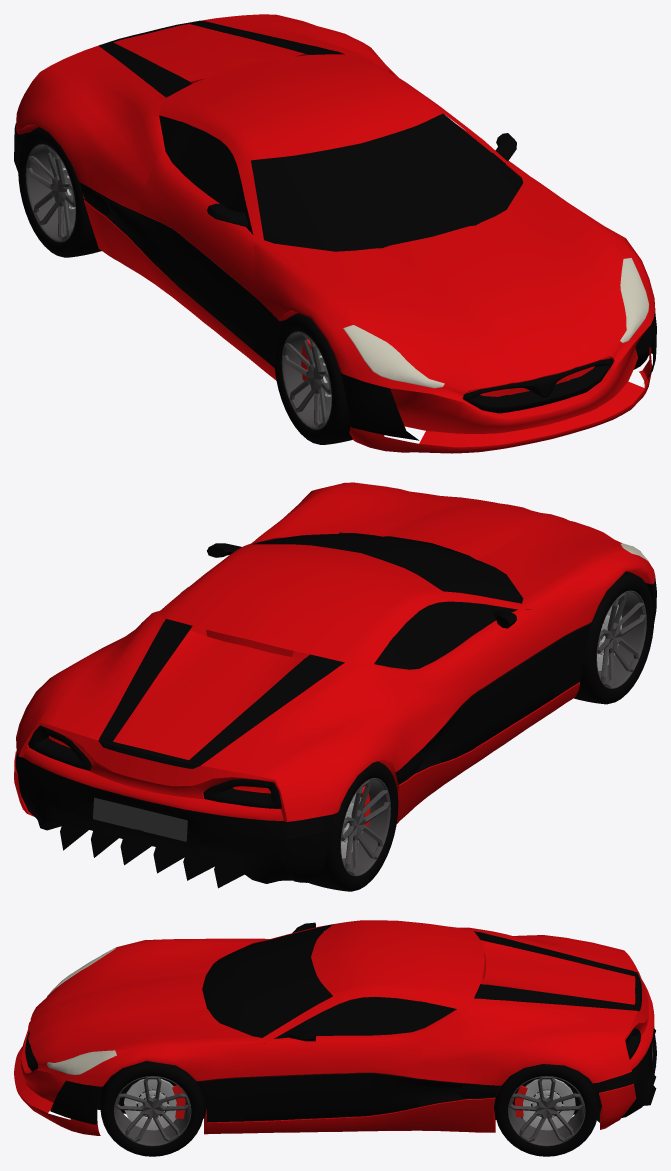
3 renders of one model, top to bottom at view 1: azimuth 30°, elevation 25°; view 2: azimuth 150°, elevation 25°; view 3: azimuth 270°, elevation 25°, orthographic. The views are drawn at different scales.
Visible parts, largest first — view 1: Rimac_Body_Body_0, Windshield_Windshield_0, Skirting/Black_Skirting_0, Lampu depan_Lampu Depan_0, w001_Tayar_0, w003_Rim_0, w001_Rim_0, w003_Tayar_0; view 2: Rimac_Body_Body_0, Skirting/Black_Skirting_0, Windshield_Windshield_0, w001_Tayar_0, w001_Rim_0, w003_Rim_0, w003_Tayar_0, Lampu belakang_Skirting_0, Plane003_Plate_0; view 3: Rimac_Body_Body_0, Skirting/Black_Skirting_0, Windshield_Windshield_0, w_Tayar_0, w002_Tayar_0, w002_Rim_0, w_Rim_0, Brake_Pad003_Disc Brake_0, Brake_Pad_Disc Brake_0, Lampu depan_Lampu Depan_0, Rimac_Under_Bawah_0.
Boxes of the visible parts, x1,y1,x2,y2 form: Rimac_Body_Body_0: (16,14,654,453); Windshield_Windshield_0: (159,71,522,251); Skirting/Black_Skirting_0: (14,20,656,440); Lampu depan_Lampu Depan_0: (343,258,649,388); w001_Tayar_0: (274,313,352,444); w003_Rim_0: (25,144,75,242); w001_Rim_0: (281,331,331,429); w003_Tayar_0: (18,127,101,257); Rimac_Body_Body_0: (14,482,654,823); Skirting/Black_Skirting_0: (15,543,656,888); Windshield_Windshield_0: (181,534,523,669); w001_Tayar_0: (574,571,654,704); w001_Rim_0: (596,590,646,688); w003_Rim_0: (340,778,390,876); w003_Tayar_0: (308,761,398,891); Lampu belakang_Skirting_0: (28,725,281,808); Plane003_Plate_0: (93,797,187,841); Rimac_Body_Body_0: (14,920,654,1135); Skirting/Black_Skirting_0: (25,922,656,1124); Windshield_Windshield_0: (202,924,427,1037); w_Tayar_0: (100,1061,205,1156); w002_Tayar_0: (494,1064,599,1156); w002_Rim_0: (508,1076,585,1146); w_Rim_0: (113,1076,191,1146); Brake_Pad003_Disc Brake_0: (522,1078,575,1130); Brake_Pad_Disc Brake_0: (124,1079,176,1130); Lampu depan_Lampu Depan_0: (47,947,116,1074); Rimac_Under_Bawah_0: (97,1043,600,1120).
Bounding box in the file's own units: 2013 × 1173 × 4499.
